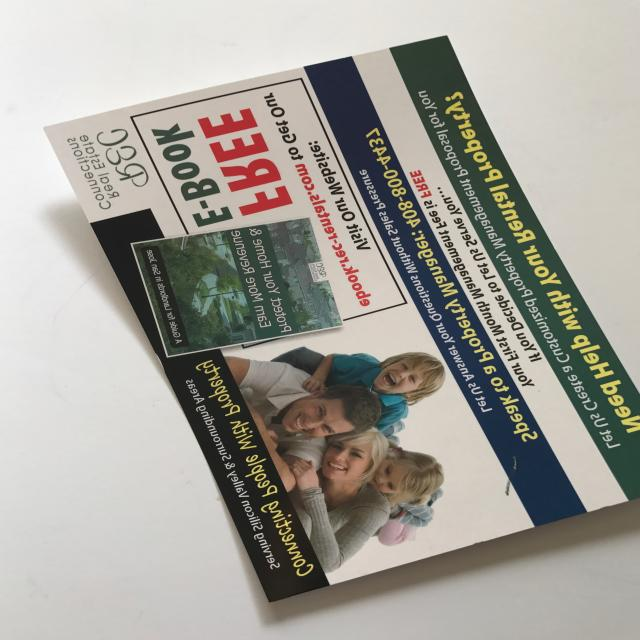paper: (30, 23, 640, 610)
